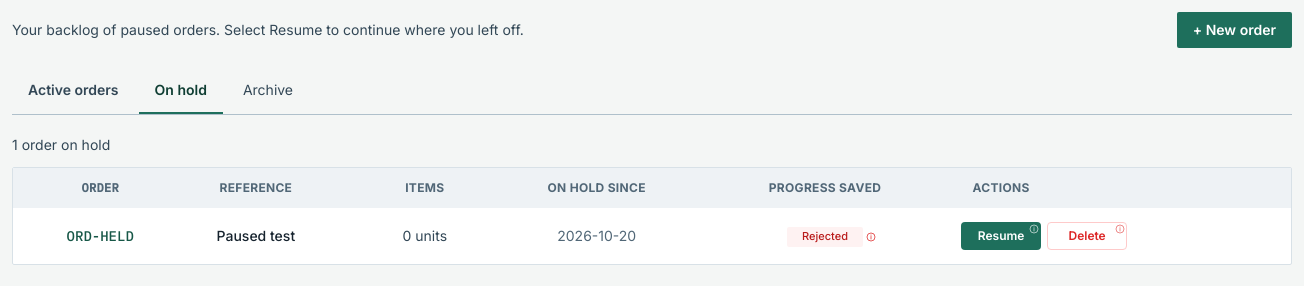
Test: backlog and archive views › resumes directly from the list and opens the order to continue working
This screenshot has width=1304, height=286.
Click the button "Resume".
click(1001, 236)  # box [961,222,1041,250]
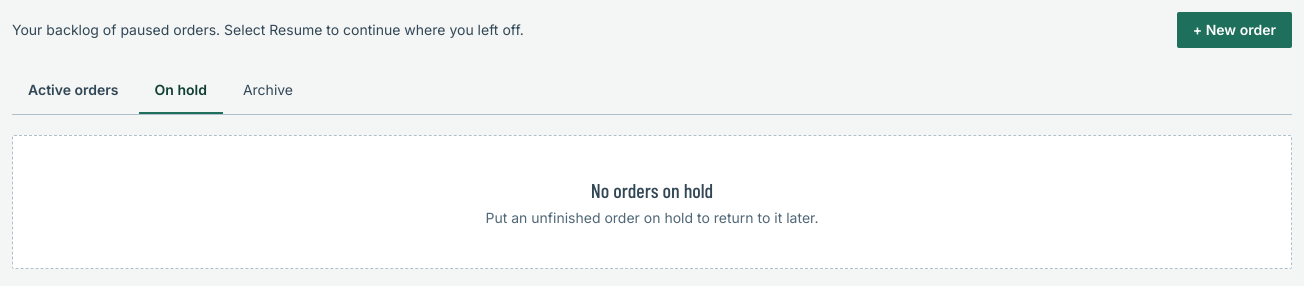
Expected: the text "No orders on hold" is shown, [591,178,713,202]
